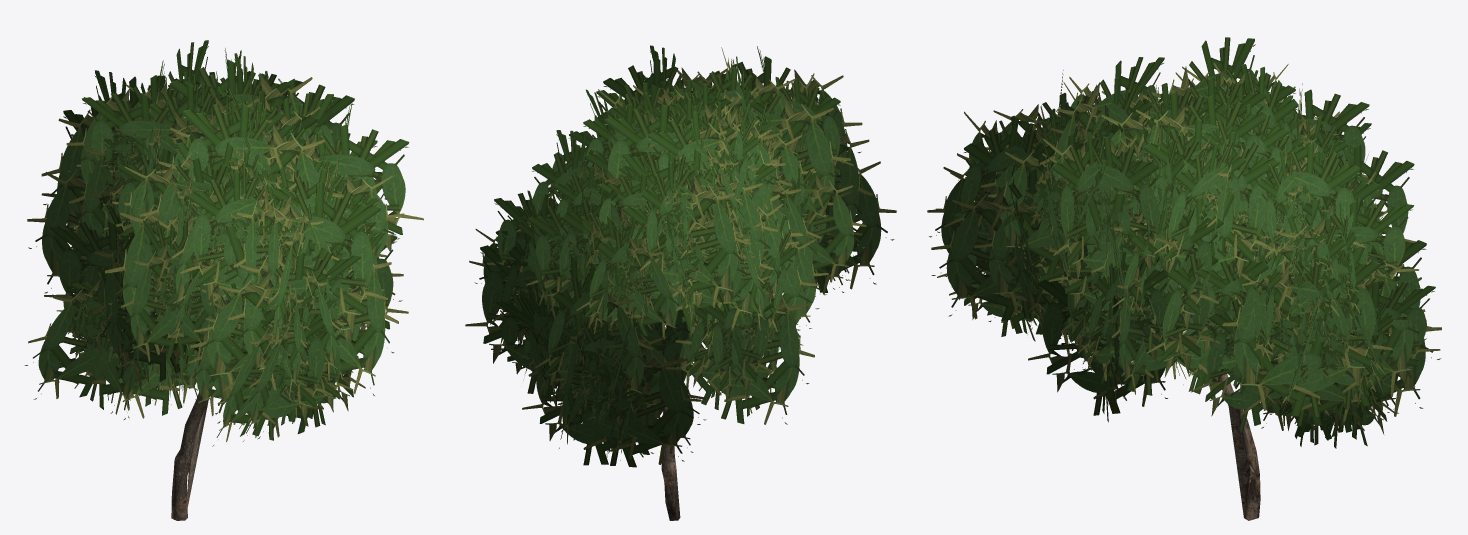
The model's file is tree_small_02.glb.
3 renders of one model, left to right at view 1: azimuth 30°, elevation 25°; view 2: azimuth 150°, elevation 25°; view 3: azimuth 270°, elevation 25°, orthographic. The views are drawn at different scales.
Visible parts, largest first — view 1: tree_small_02_LOD0 (×2); view 2: tree_small_02_LOD0 (×2); view 3: tree_small_02_LOD0 (×2).
Part boxes in pixels (left/top/right/bottom): tree_small_02_LOD0 (×2): left=24, top=40, right=423, bottom=520; tree_small_02_LOD0 (×2): left=465, top=45, right=896, bottom=520; tree_small_02_LOD0 (×2): left=927, top=37, right=1441, bottom=520.
Bounding box in the file's own units: 4.22 × 5.31 × 5.52.
3 materials, 3 textured.
